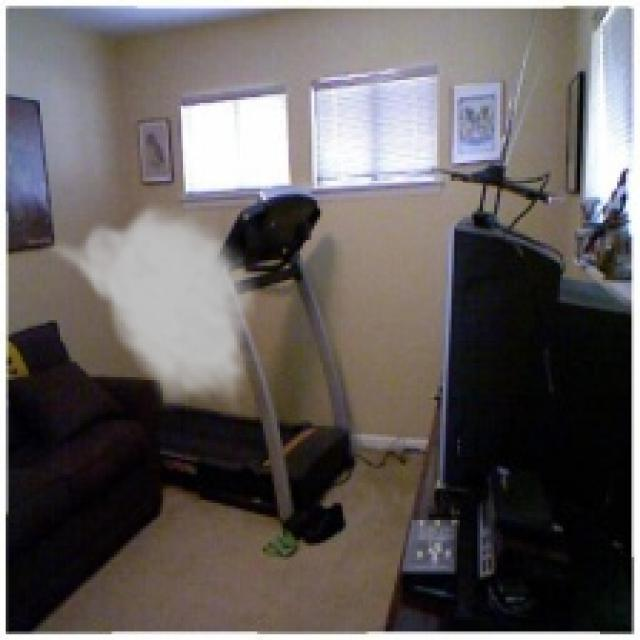Smoke: (40, 197, 260, 414)
